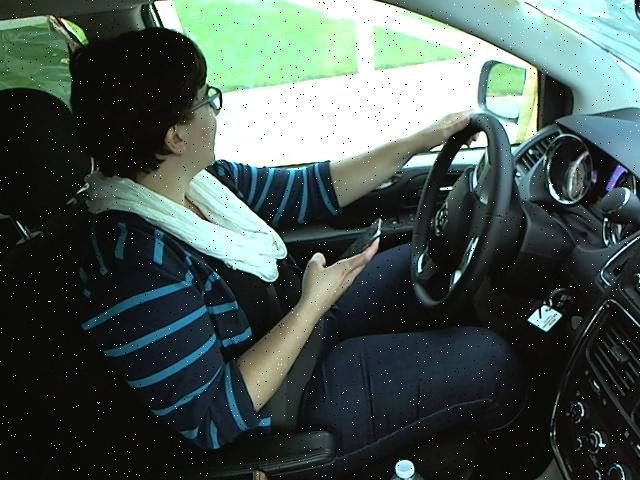c1 - Texting: (61, 24, 521, 448)
